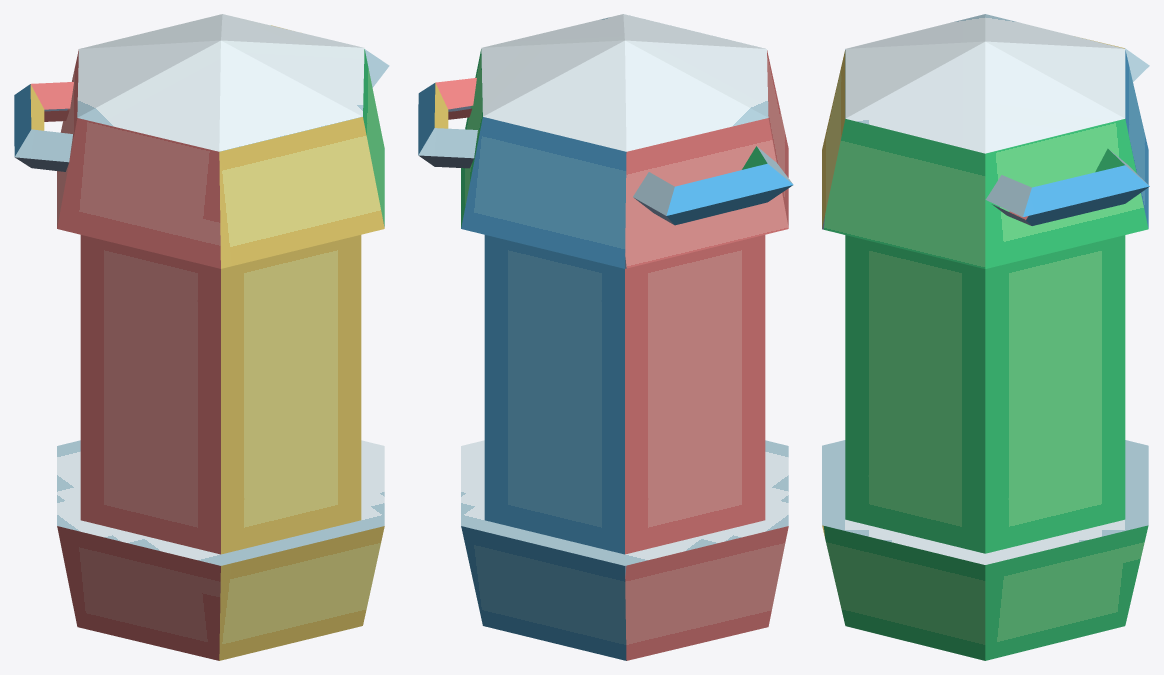
File: power_cell.obj
3 renders of one model, left to right at view 1: azimuth 30°, elevation 25°; view 2: azimuth 150°, elevation 25°; view 3: azimuth 270°, elevation 25°, orthographic.
Parts seen in each view (by area): view 1: body, cap_top, cap_bottom, handle; view 2: body, cap_top, cap_bottom, handle; view 3: body, cap_top, cap_bottom, handle.
Boxes of the visible parts, box(x1,y1,x2,y2) form: body: box(80, 235, 361, 554); cap_top: box(57, 14, 384, 268); cap_bottom: box(57, 440, 384, 660); handle: box(14, 25, 389, 171); body: box(484, 235, 765, 554); cap_top: box(461, 14, 788, 268); cap_bottom: box(461, 440, 788, 660); handle: box(418, 78, 793, 225); body: box(845, 235, 1125, 553); cap_top: box(822, 14, 1148, 268); cap_bottom: box(822, 440, 1148, 660); handle: box(985, 38, 1149, 225).
Size of the model in its own units: 0.5783 by 0.8125 by 0.4393.
Materials: 1 (1 with a texture image).
